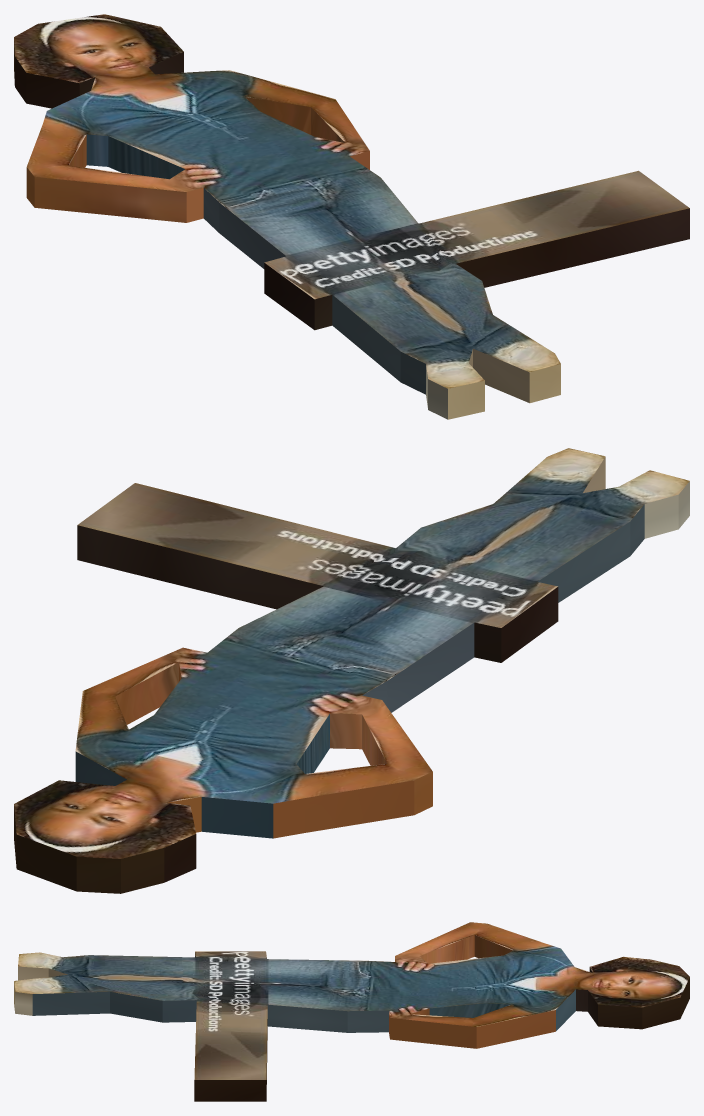
Rendered from girl.glb.
The picture shows the model from 3 angles, top to bottom: view 1: azimuth 30°, elevation 25°; view 2: azimuth 150°, elevation 25°; view 3: azimuth 270°, elevation 25°; orthographic projection. The views are drawn at different scales.
Visible parts, largest first — view 1: Girl; view 2: Girl; view 3: Girl.
Boxes of the visible parts, left/top/right/bottom form: Girl: left=14, top=14, right=689, bottom=419; Girl: left=14, top=448, right=689, bottom=893; Girl: left=14, top=922, right=689, bottom=1101.
Bounding box in the file's own units: 2.5 × 0.1606 × 4.52.
Materials: 1 (1 with a texture image).
